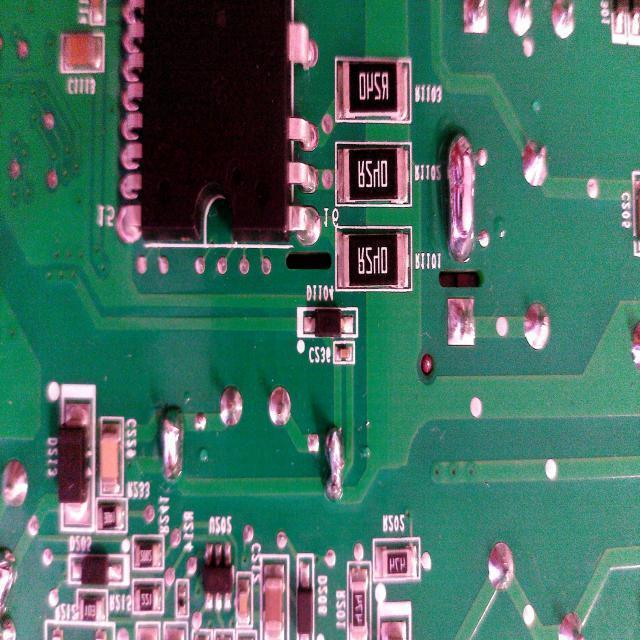Soldering bridge: (445, 128, 478, 266), (158, 400, 188, 481), (322, 420, 348, 508)
